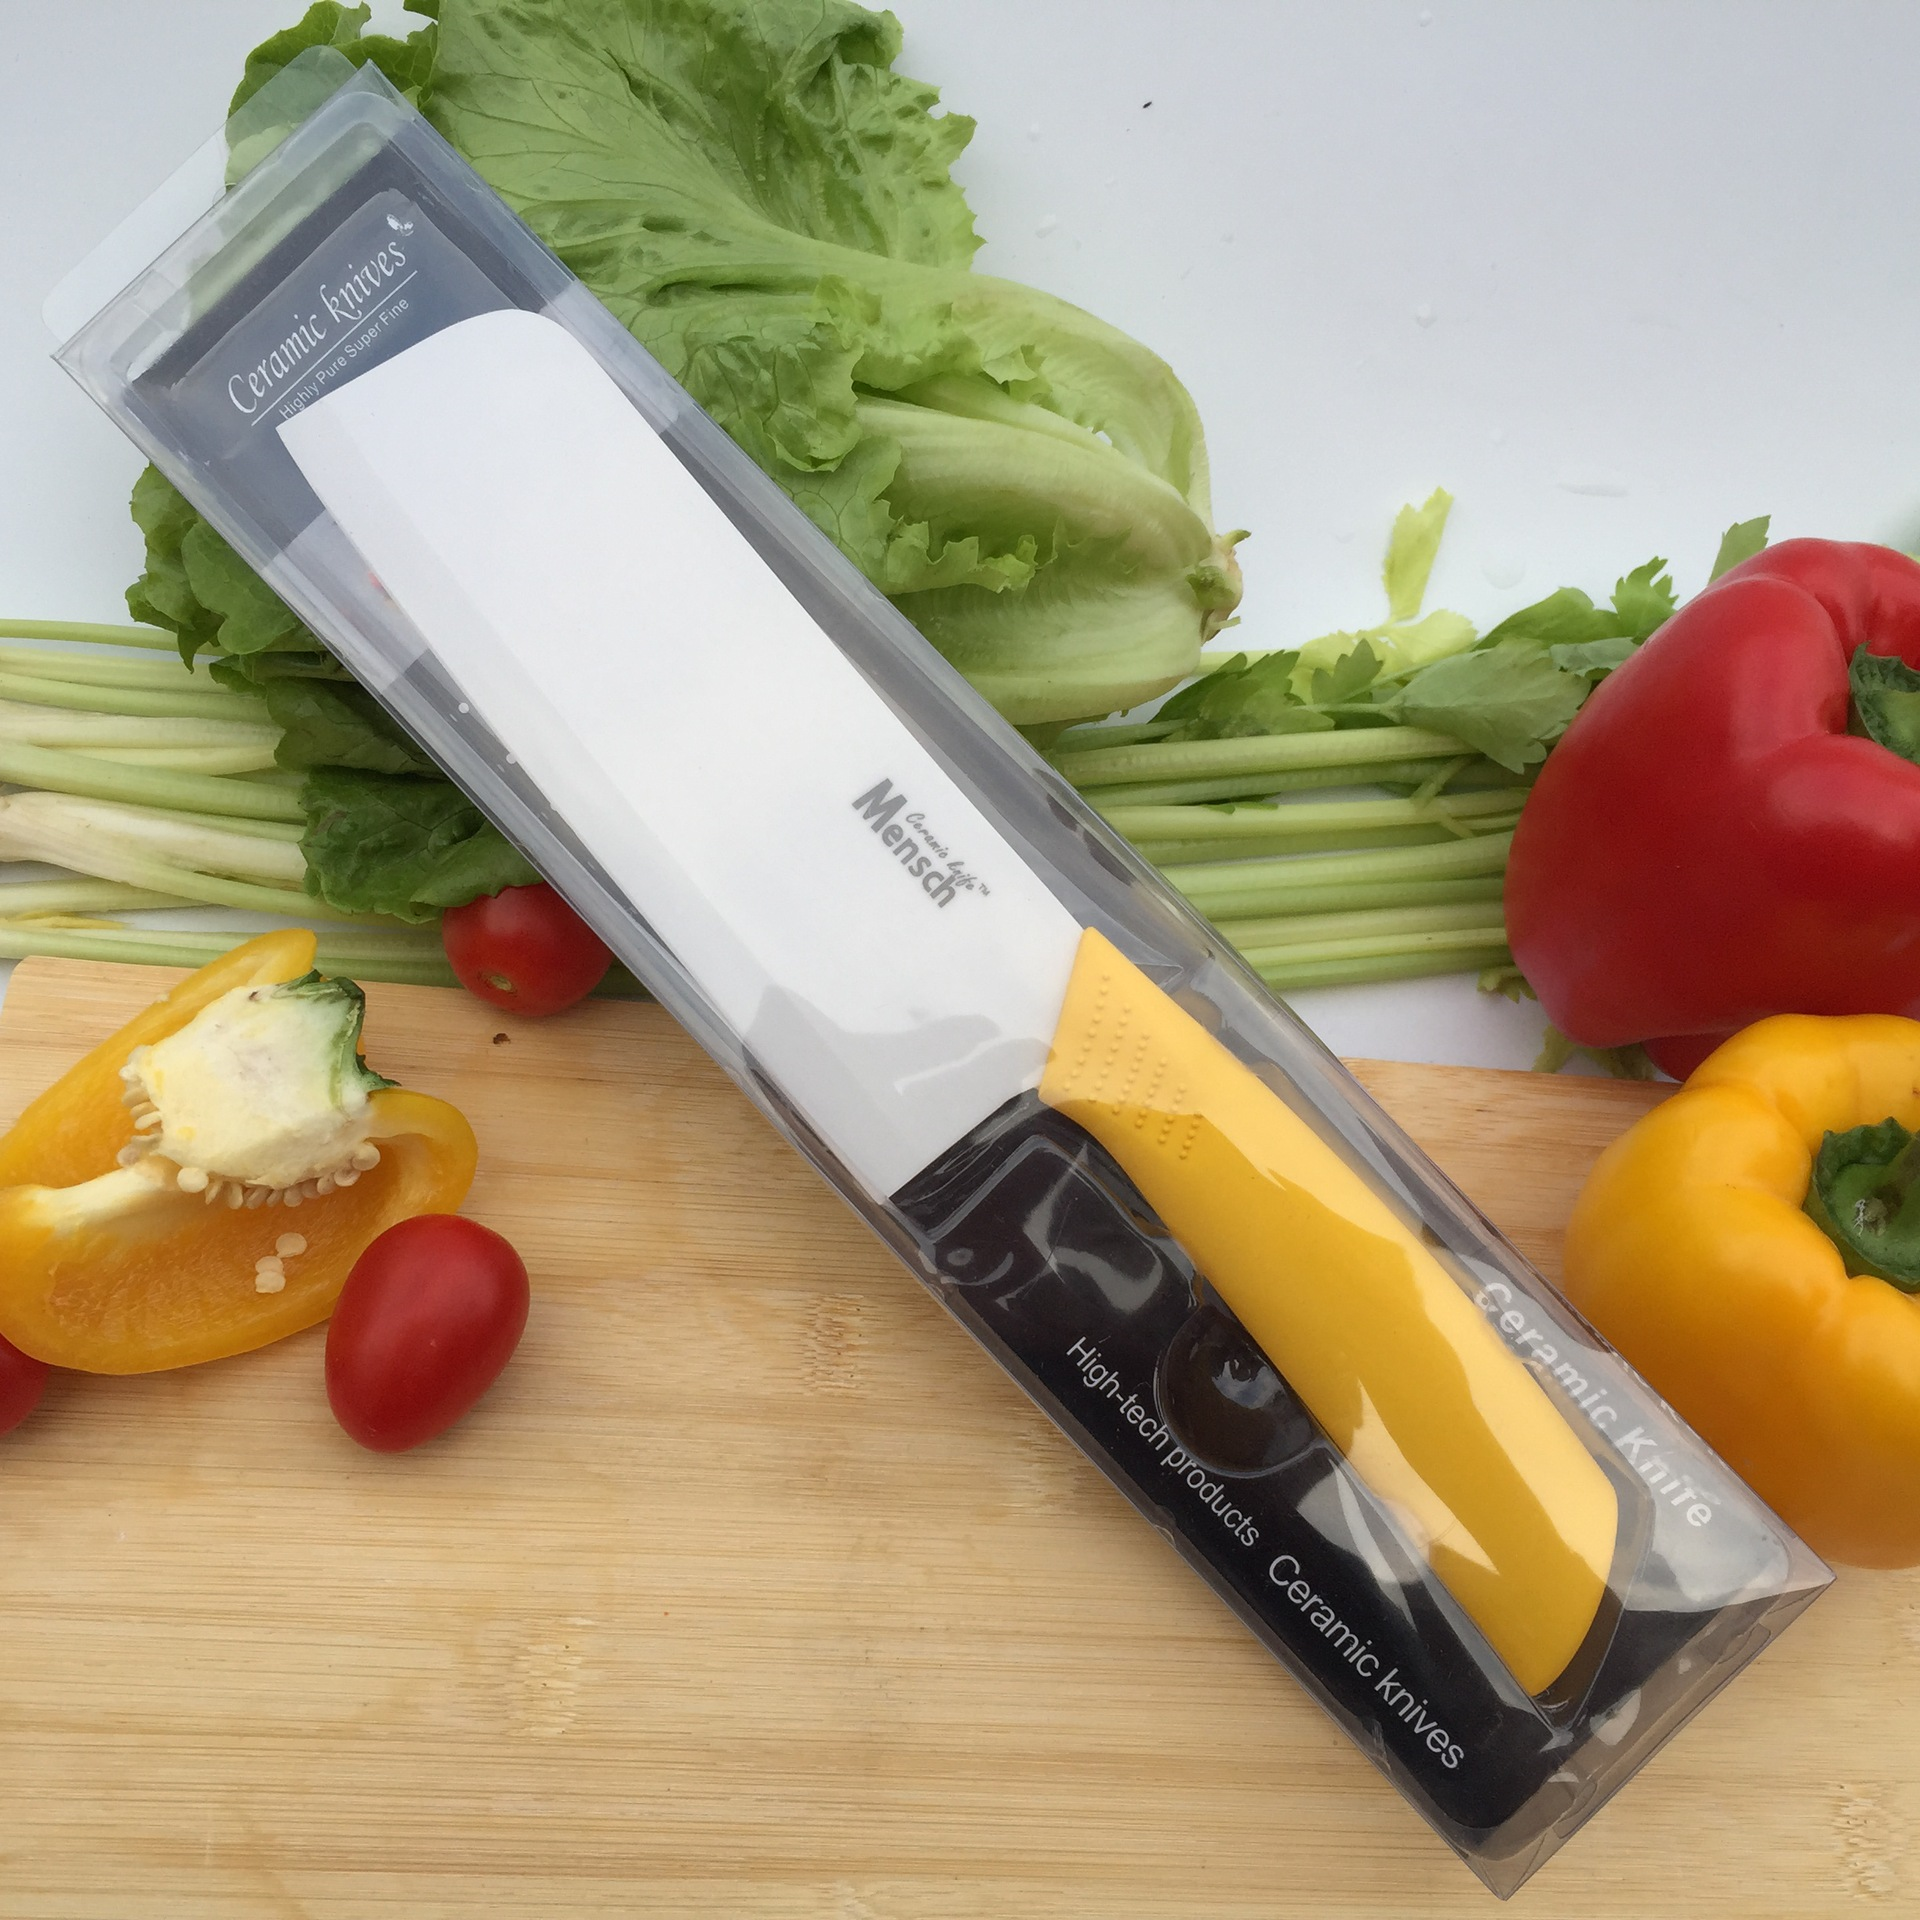knief: (243, 290, 1632, 1732)
